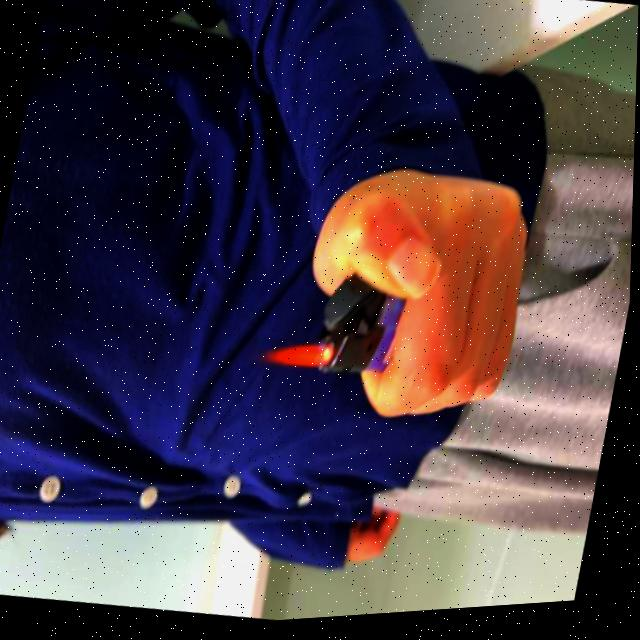Fire: (260, 331, 340, 377)
